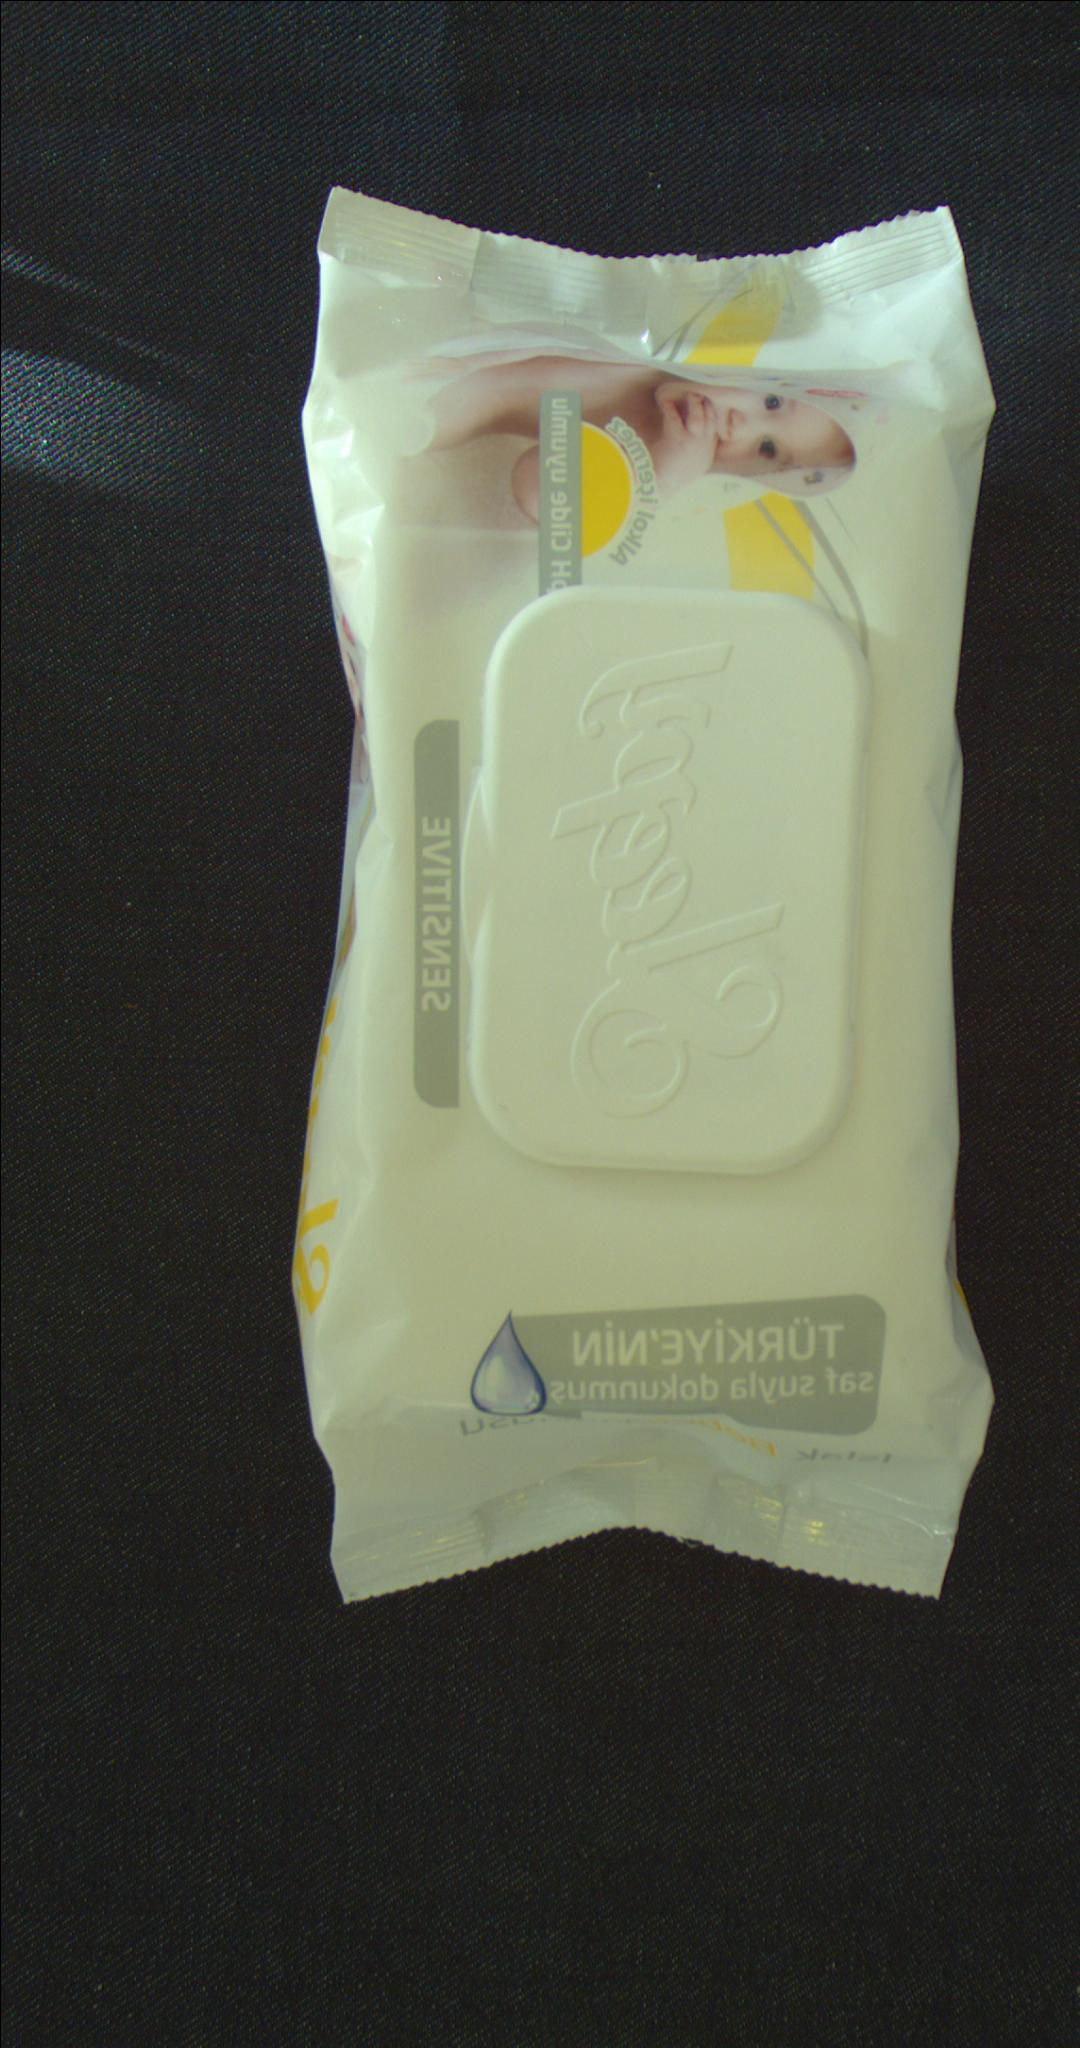kapak: (469, 597, 860, 1172)
